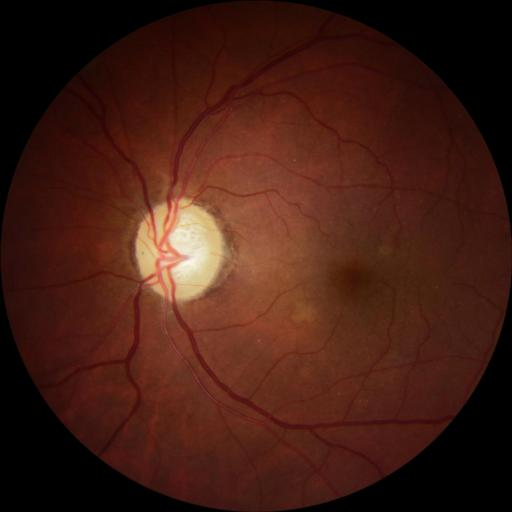Optic Cup: (155, 214, 207, 274)
Optic Disc: (134, 198, 223, 303)
